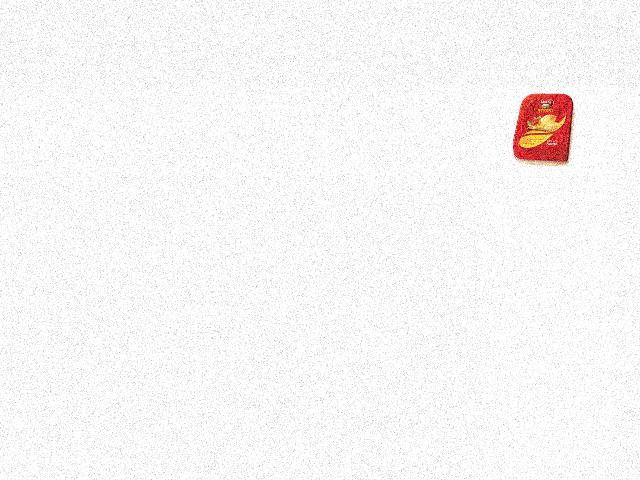cheese: (513, 89, 575, 165)
